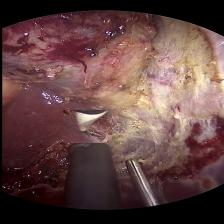Grasper: (120, 156, 167, 209)
Hook: (62, 111, 110, 143)
